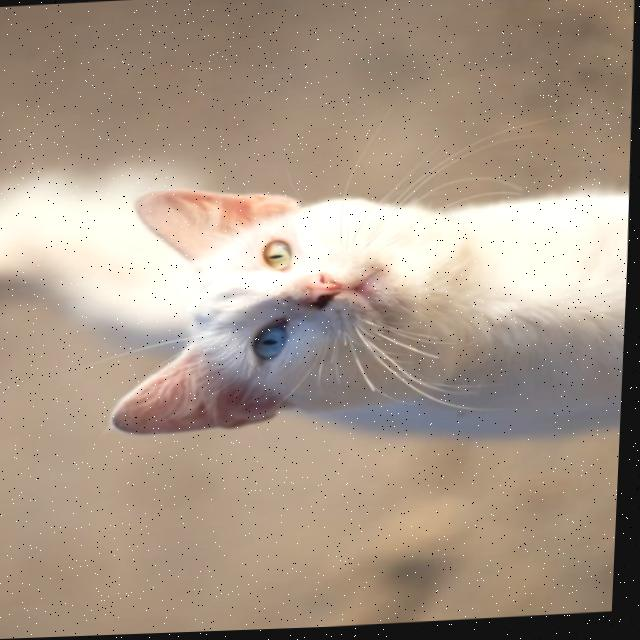Khao Manee: (101, 164, 634, 466)
